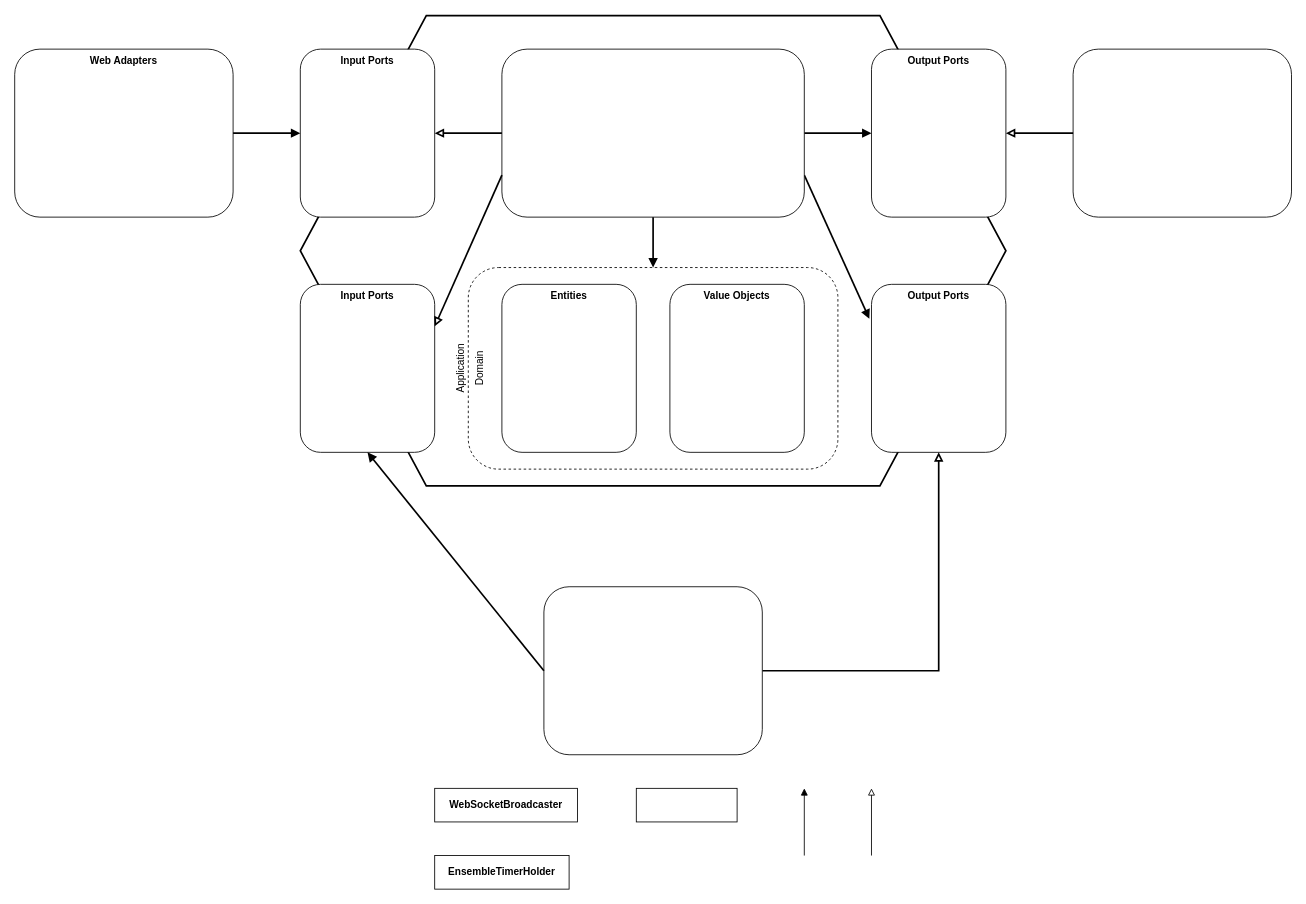
Some shapes in this 1306 by 904 pixel diagram are drawn without their labels. The shapes that lost their labels are listed below. From the top down, each one's centre as x and y in pixels, then its label:
At (652,132): "Services".
At (1182,132): "Persistence Adapters".
At (652,670): "Web Socket Adapters".
At (686,805): "«interface» Broadcaster".
